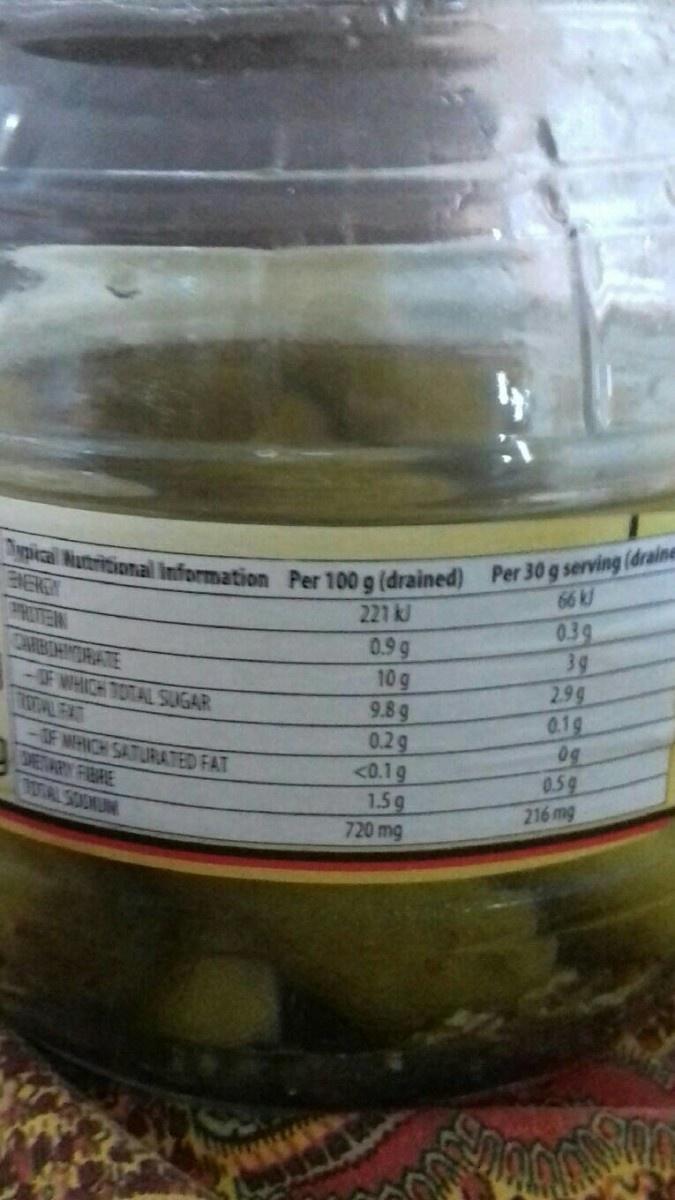column: (5, 539, 274, 828), (492, 546, 675, 823), (287, 571, 465, 836)
table: (4, 528, 675, 843)
